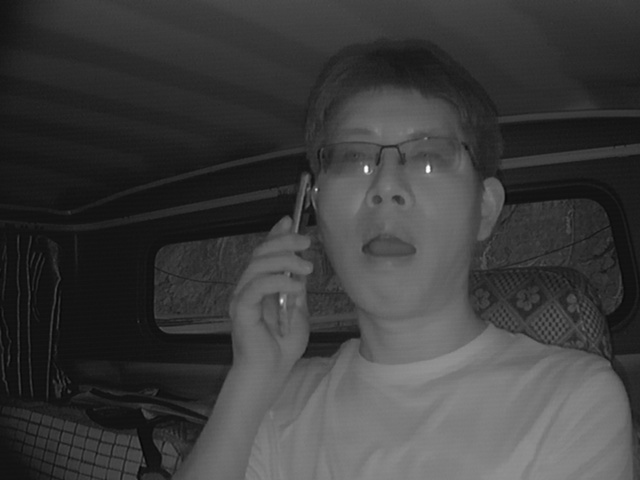hand: (224, 214, 324, 372)
